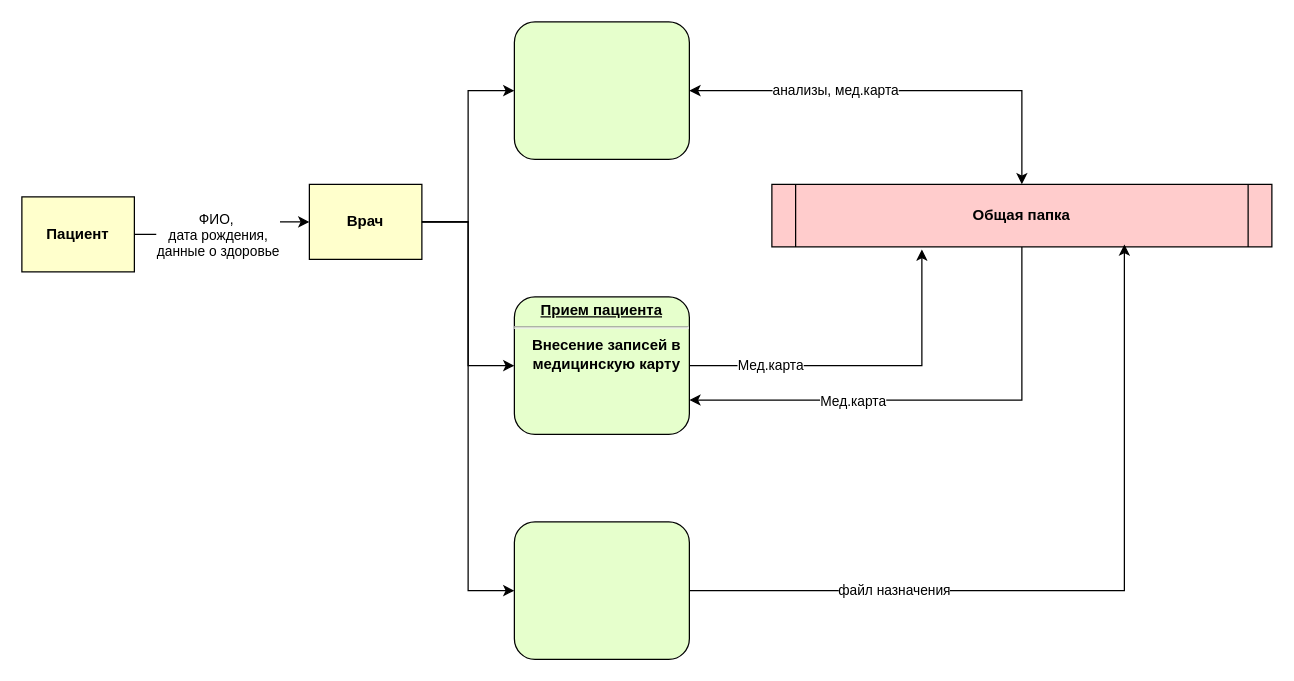
Image size: 1294x681. Some labels were removed from this diagram. Each missing label, with the centre of its shape:
Назначение анализов Направление на анализ: (601,590)
Учёт анализов Редактирвоание Мед.карты: (601,90)
